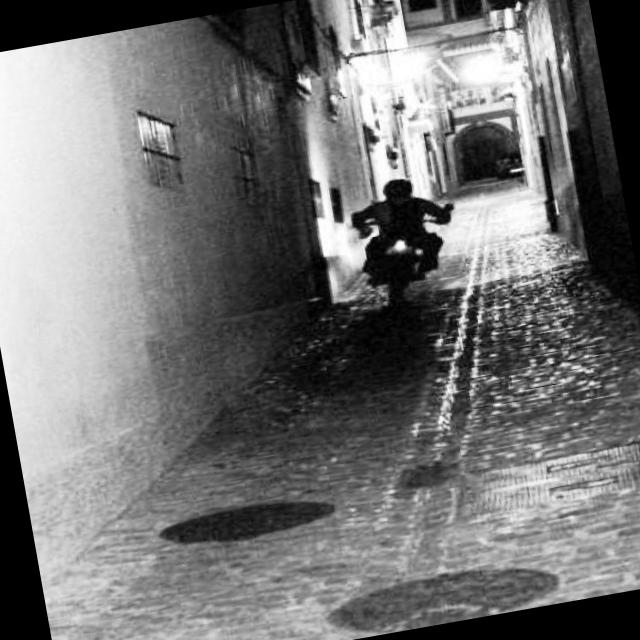Motorcycle: (348, 202, 463, 320)
